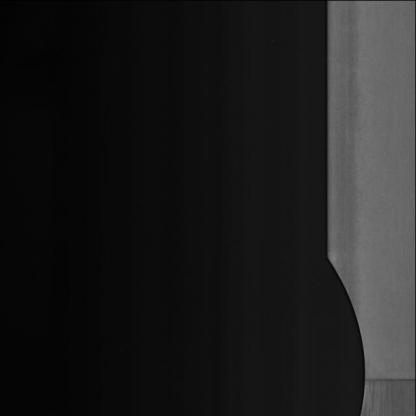crescent_gap: (308, 249, 374, 415)
welding_line: (352, 366, 414, 394)
